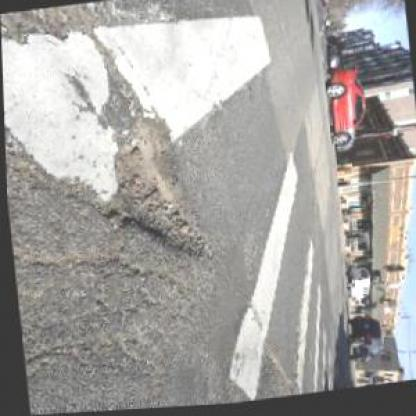pothole: (93, 101, 219, 276)
